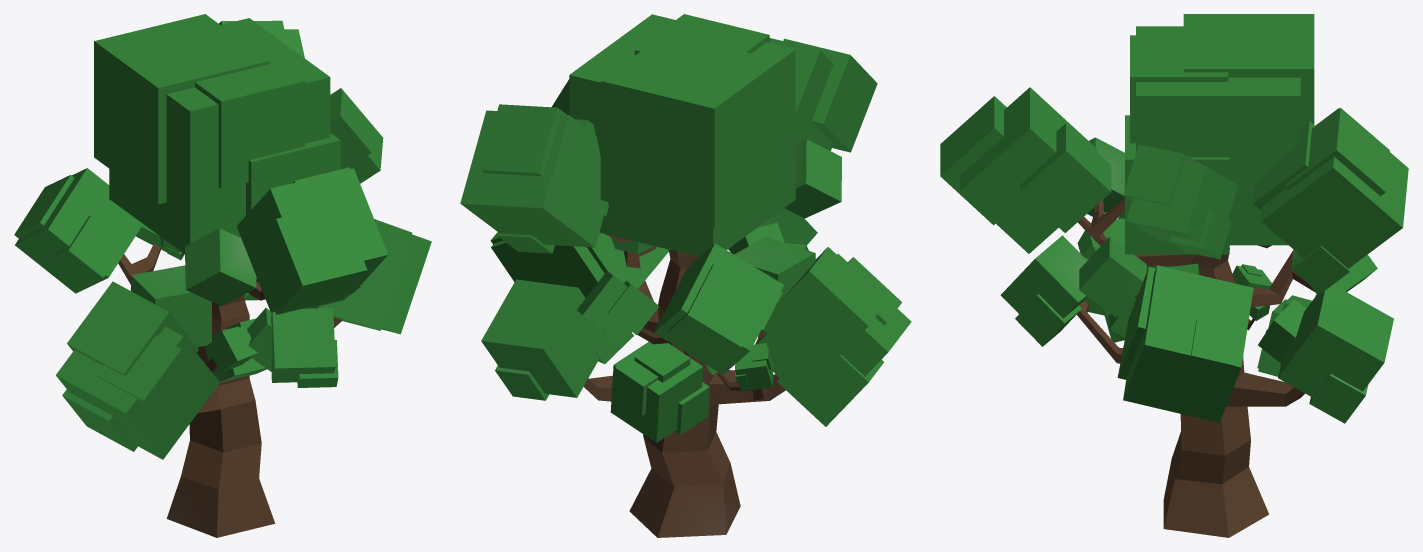
The model's file is tree_05_v1.gltf.
3 renders of one model, left to right at view 1: azimuth 30°, elevation 25°; view 2: azimuth 150°, elevation 25°; view 3: azimuth 270°, elevation 25°, orthographic. The views are drawn at different scales.
Parts seen in each view (by area): view 1: Tree_05; view 2: Tree_05; view 3: Tree_05.
Part boxes in pixels (x1,y1,x2,y2): Tree_05: (14,14,431,537); Tree_05: (460,14,911,537); Tree_05: (940,14,1408,537).
Bounding box in the file's own units: 3.53 × 4.24 × 3.9.
